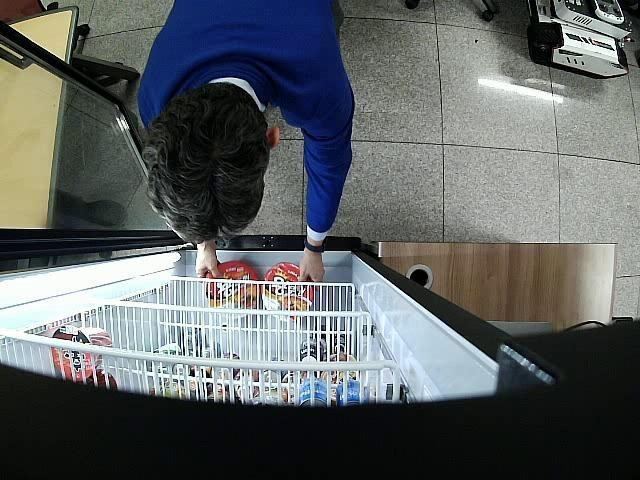10_wangTtukkeong: (204, 262, 260, 320), (262, 263, 313, 320)
